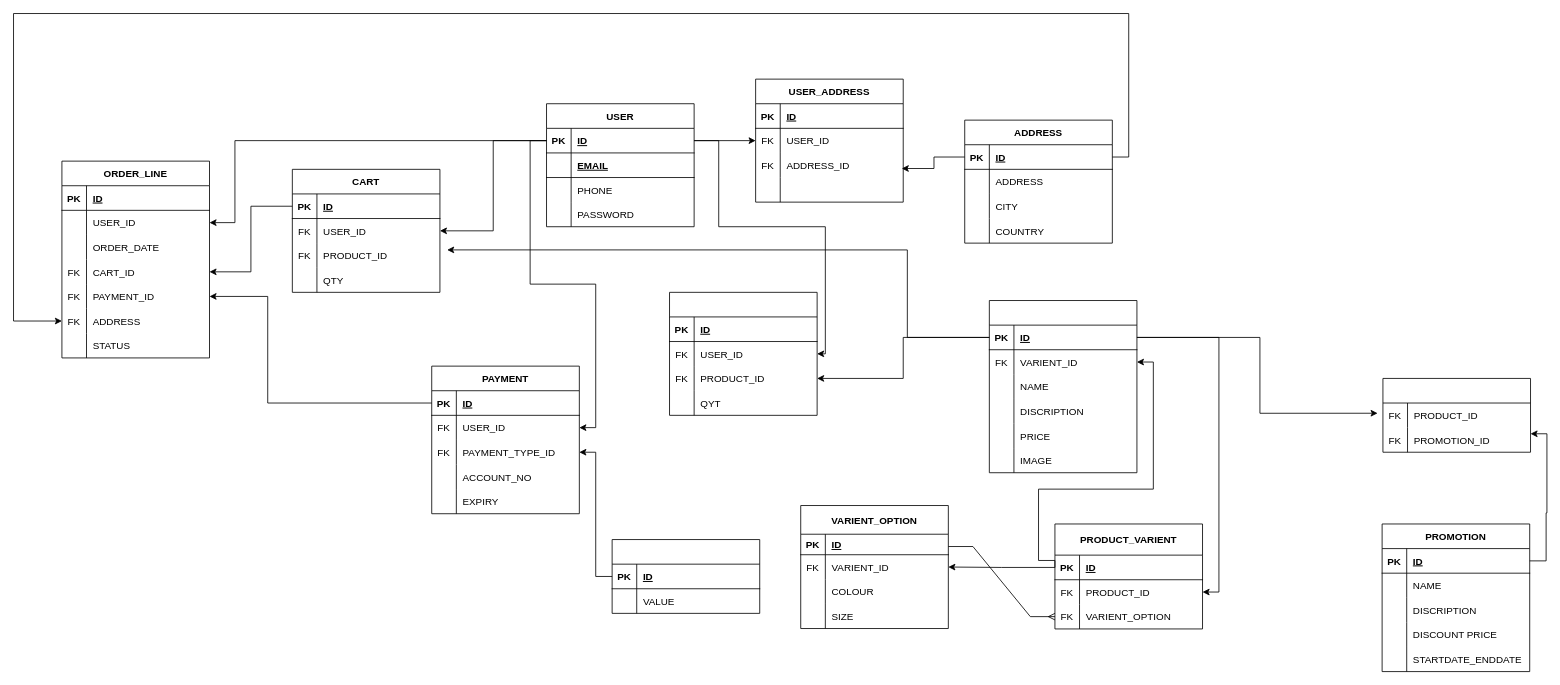
This 1560x685 diagram has some shape labels left out. The box of each missing label's shape, as (x1, y1, x2, y2) in pixels:
PAYMENTYPE: (611, 539, 760, 613)
PRODUCT: (989, 300, 1137, 473)
PROMOTION_CATEGORY: (1382, 378, 1531, 452)
Wishlist: (669, 292, 817, 415)
